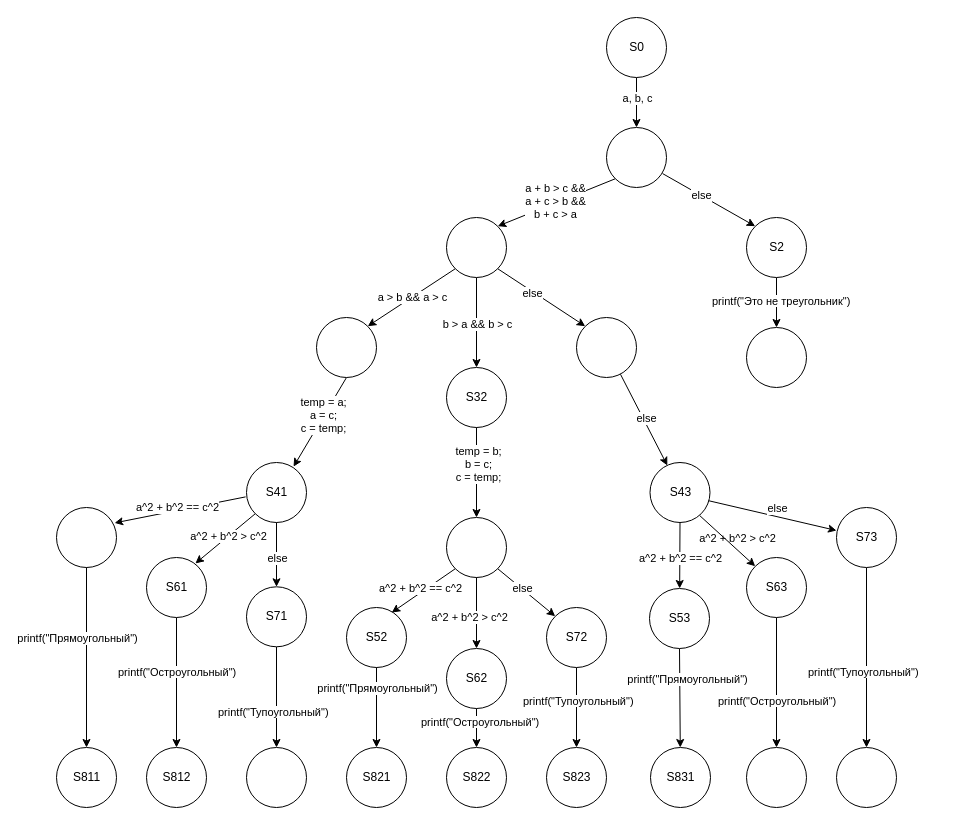
Some shapes in this 964 by 825 pixel diagram are drawn without their labels. The shapes that lost their labels are listed below. From the top down, each one's centre as x and y in pixels, then its label:
At (x=636, y=157): "S1".
At (x=476, y=247): "S3".
At (x=346, y=347): "S31".
At (x=606, y=347): "S33".
At (x=776, y=357): "S8".
At (x=86, y=537): "S51".
At (x=476, y=547): "S42".
At (x=276, y=777): "S813".
At (x=776, y=777): "S832".
At (x=866, y=777): "S833".
